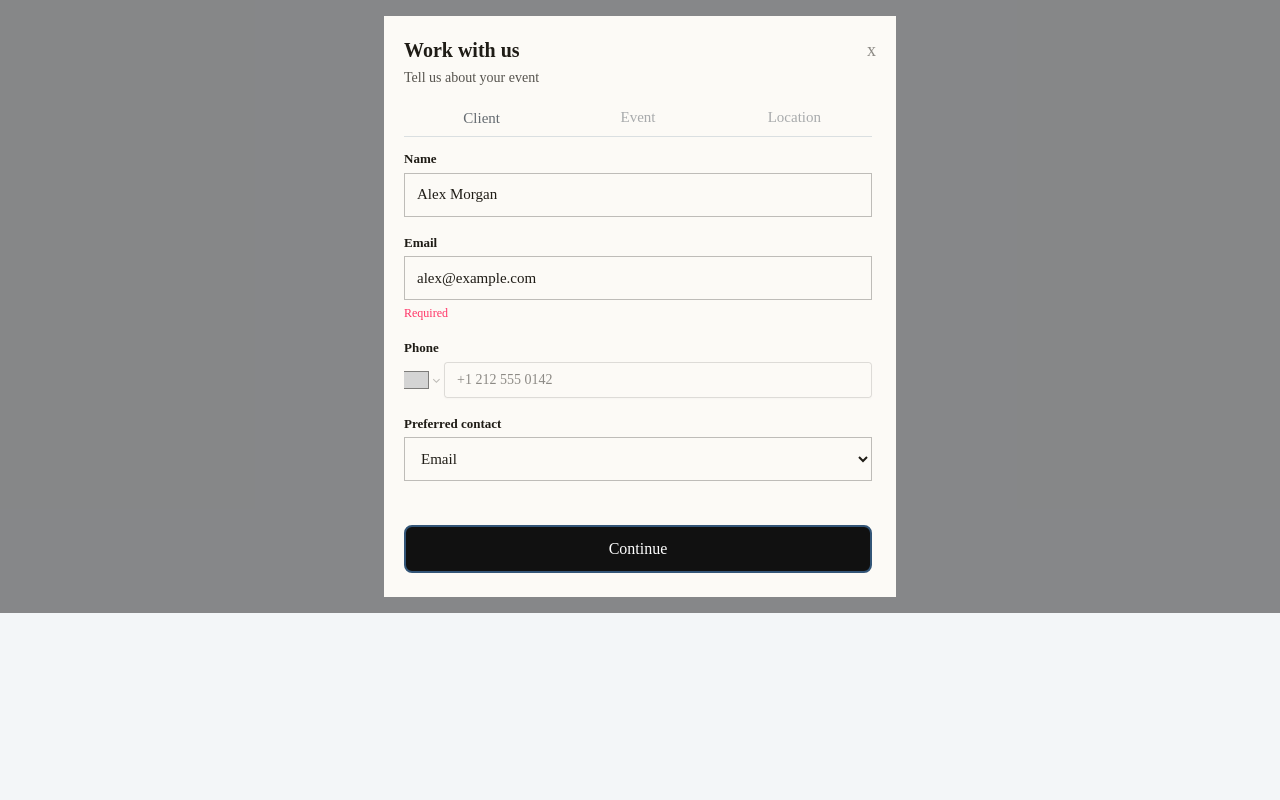
Test: ContactFormPreview › uses filled, disabled sample fields and advances without validating in preview
Expected: the field labelled "Name" is disabled, [404, 172, 872, 216]
Expected: the field labelled "Name" holds "Alex Morgan", [404, 172, 872, 216]
Click the button "Continue".
click(638, 549)  # box [404, 525, 872, 573]
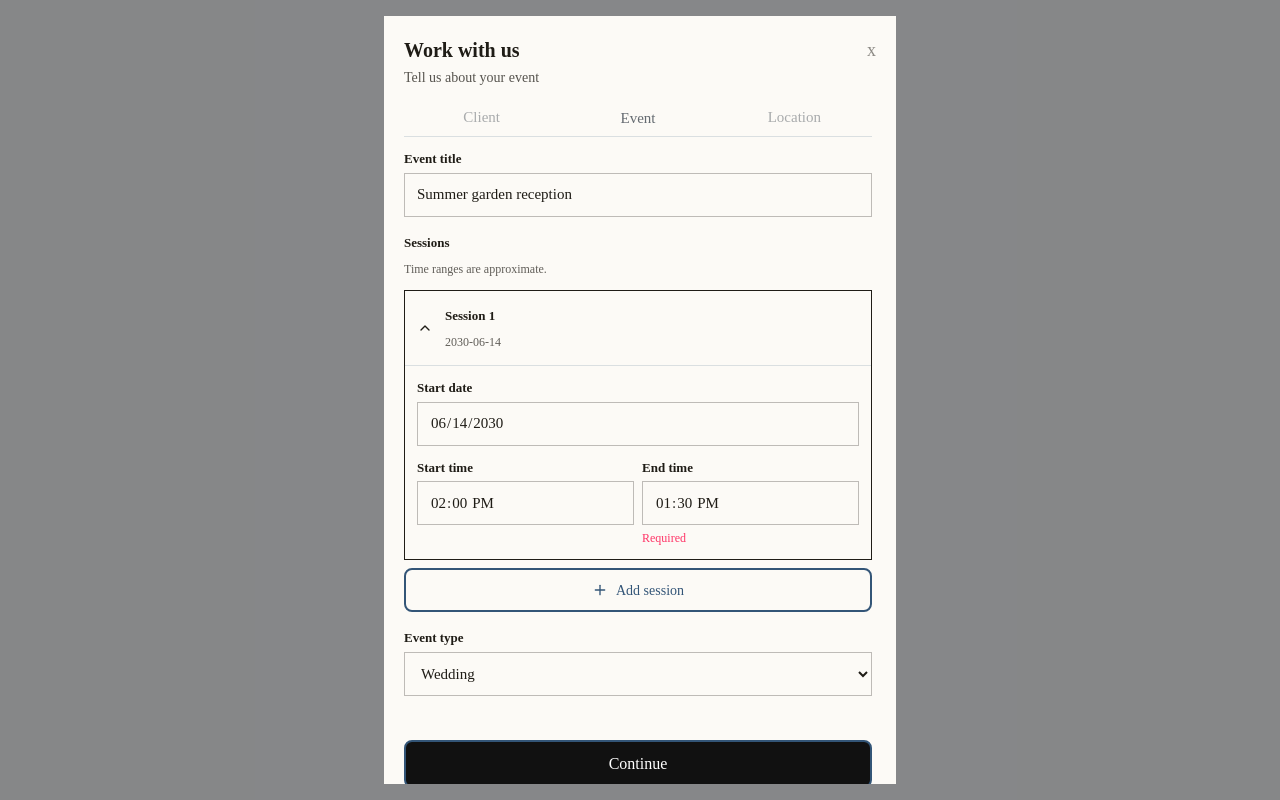
Now the field labelled "Event title" is shown, box [404, 172, 872, 216]
